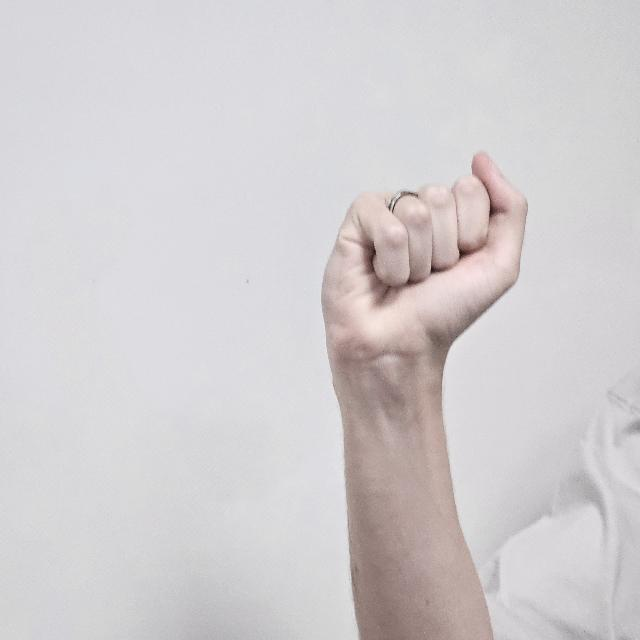Quadro: (320, 138, 530, 386)
